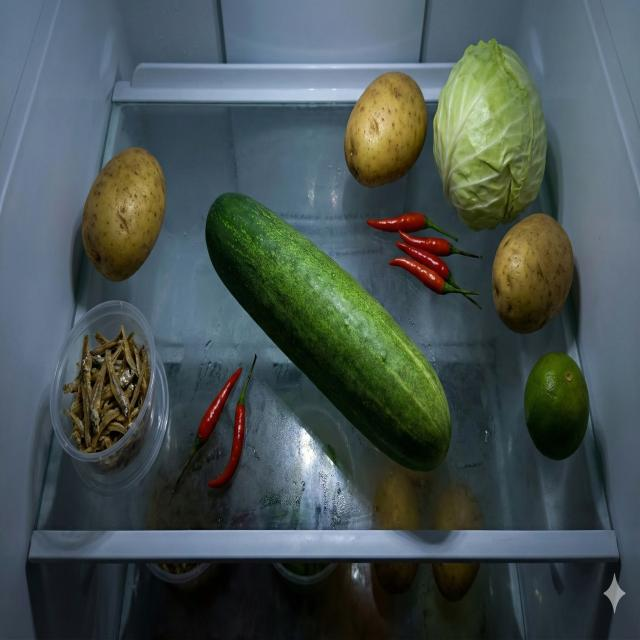anchovies: (62, 324, 151, 476)
cabbage: (433, 38, 547, 232)
chili: (172, 353, 256, 497), (366, 210, 484, 312)
cucumber: (206, 190, 451, 474)
lime: (523, 348, 590, 462)
potato: (81, 146, 167, 284), (343, 70, 429, 189), (492, 212, 575, 335)
